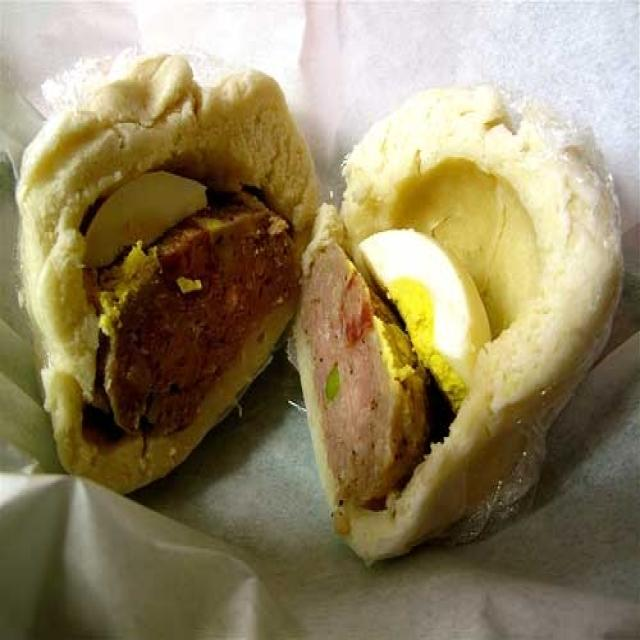带馅早点: (12, 26, 616, 584)
